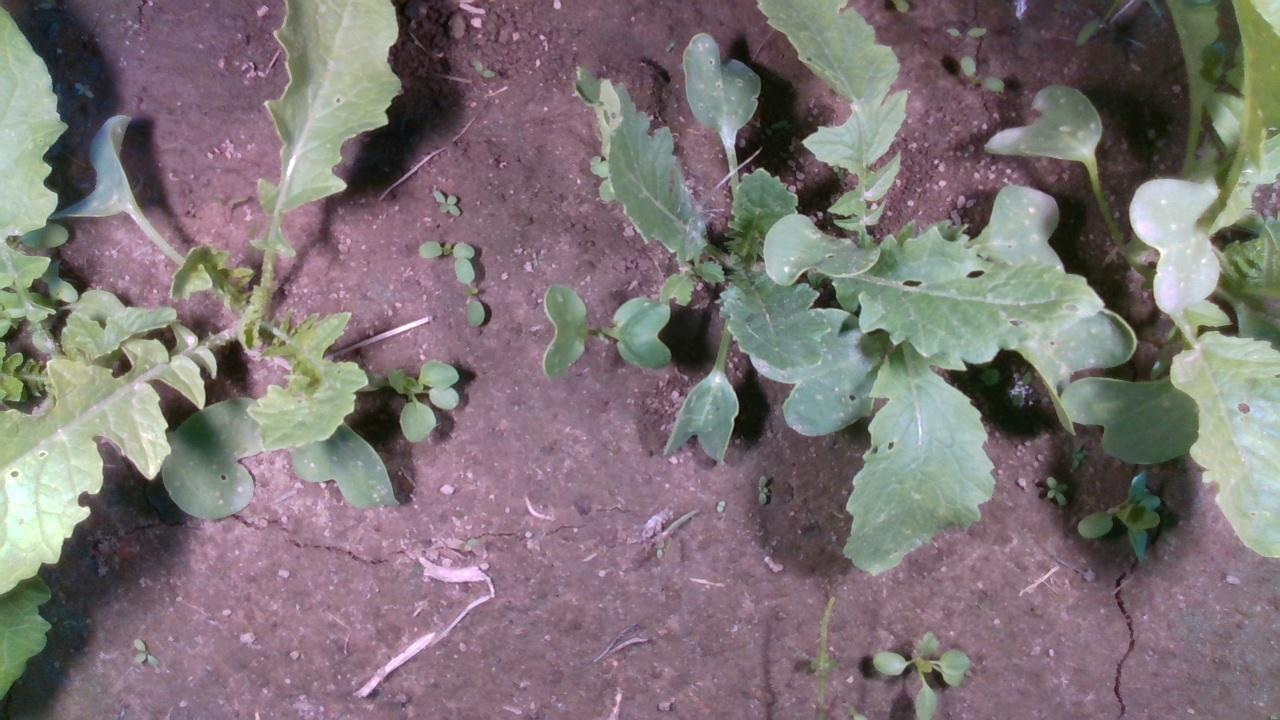weed: (957, 53, 1006, 92), (431, 187, 461, 217), (131, 636, 159, 667), (1043, 473, 1068, 507), (944, 25, 987, 38), (471, 57, 494, 76), (754, 472, 766, 503), (712, 496, 725, 513)
